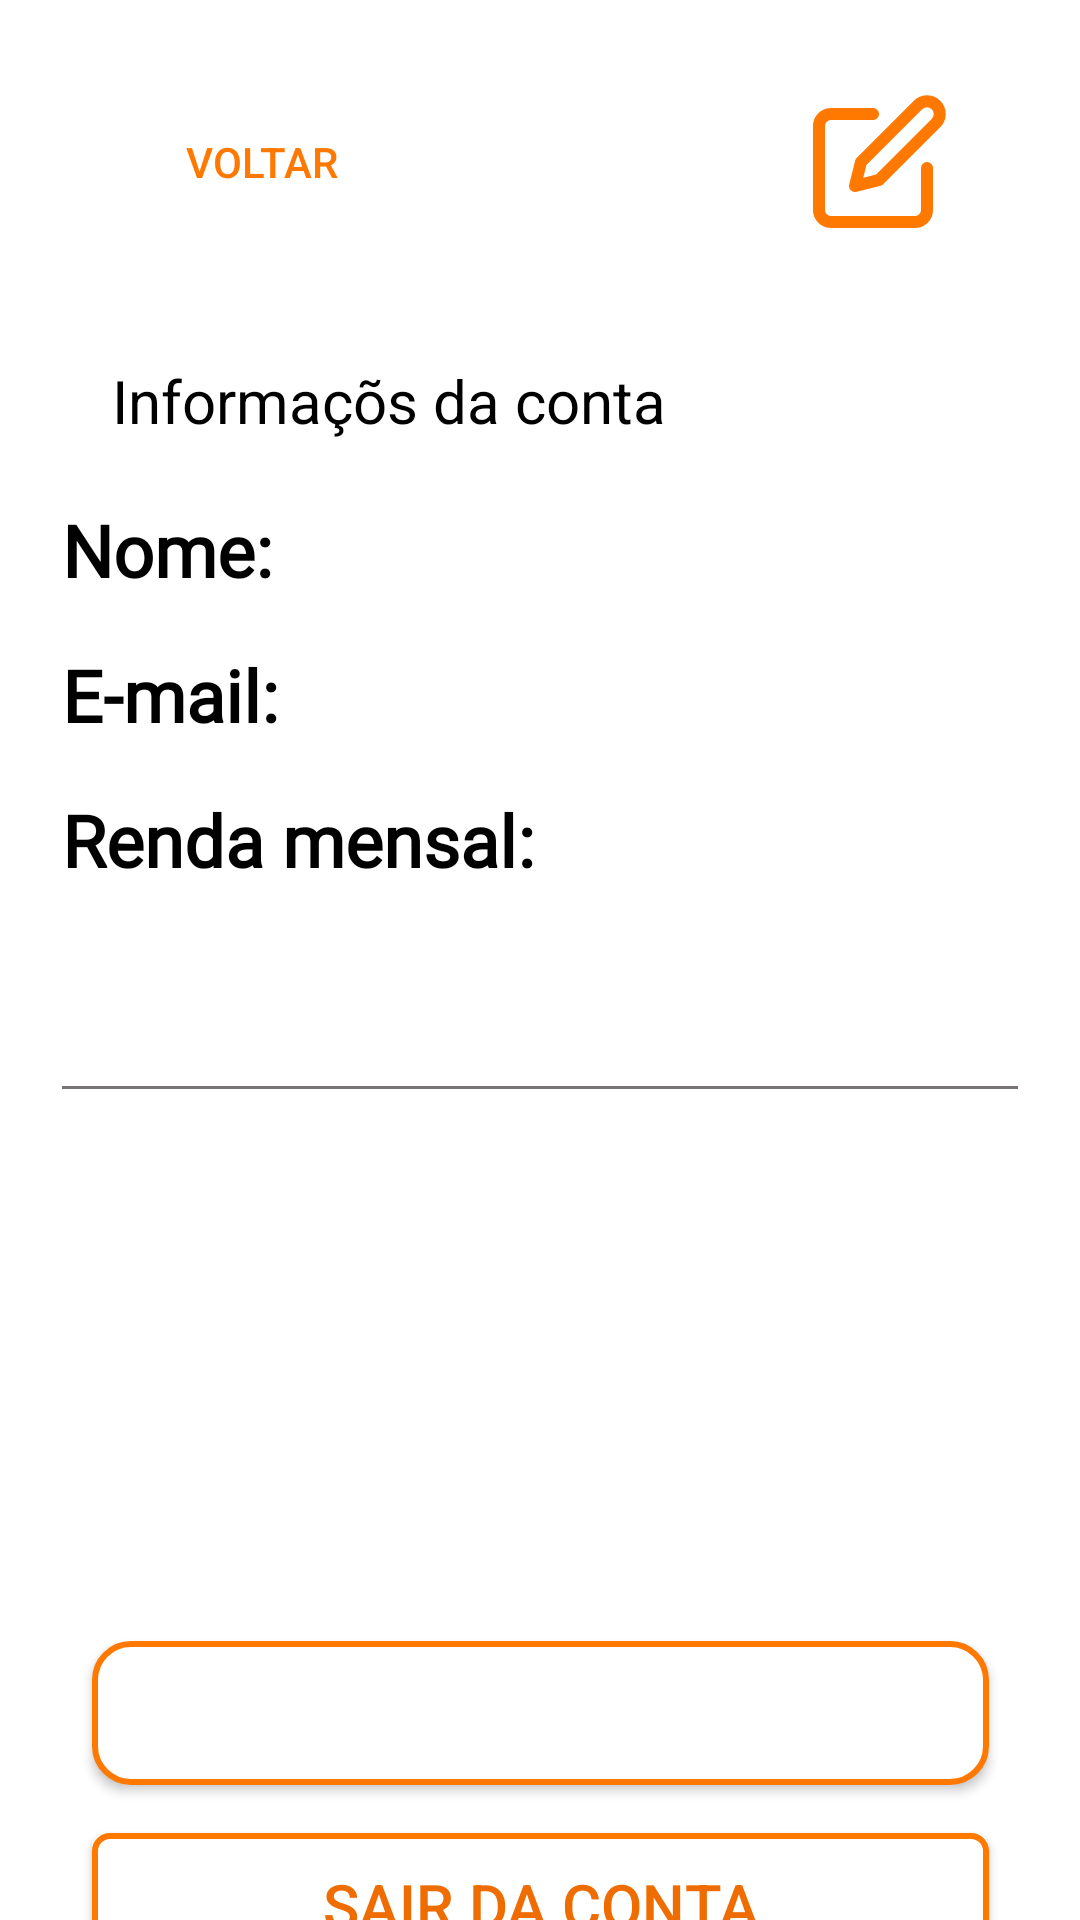

Where to tap for icons on this 1080w x 1920h app screen, as (x=x, y=y):
edit: (x=879, y=161)
